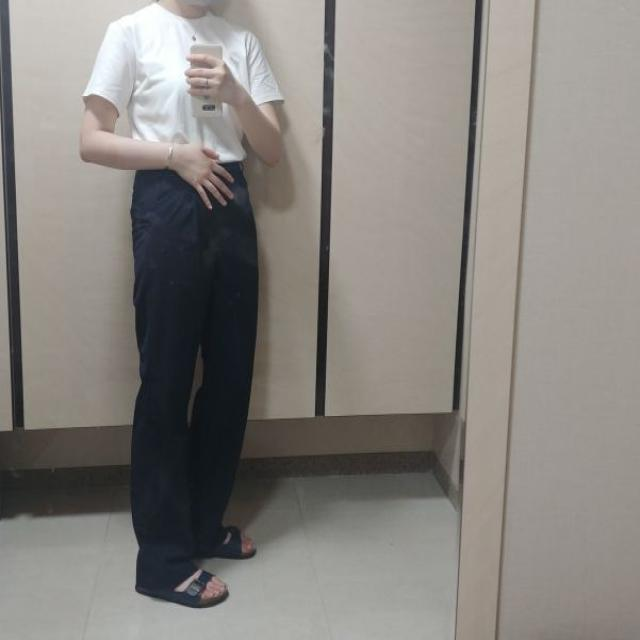shortsleeve: (82, 5, 285, 165)
slacks: (134, 168, 259, 590)
